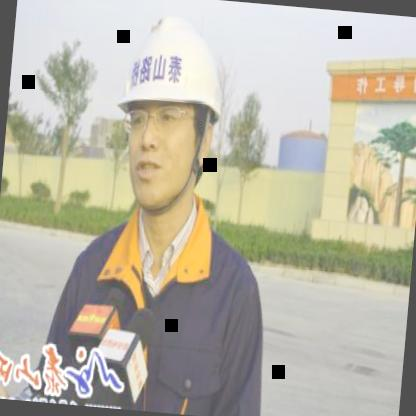helmet: (94, 0, 247, 231)
